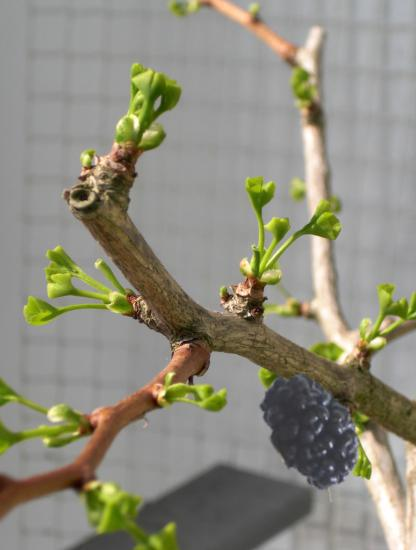Mulberry: (258, 358, 395, 495)
